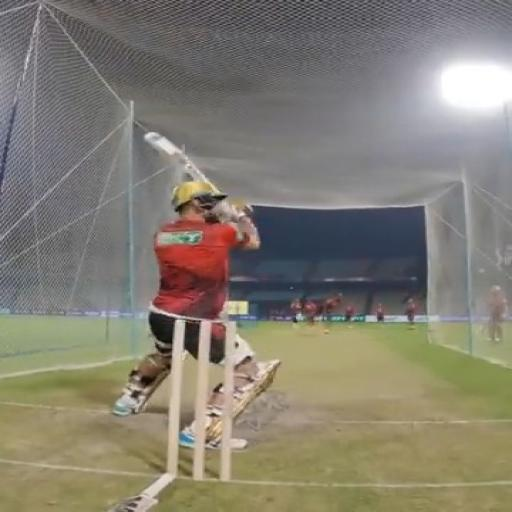Cricket bat: (145, 132, 212, 183)
